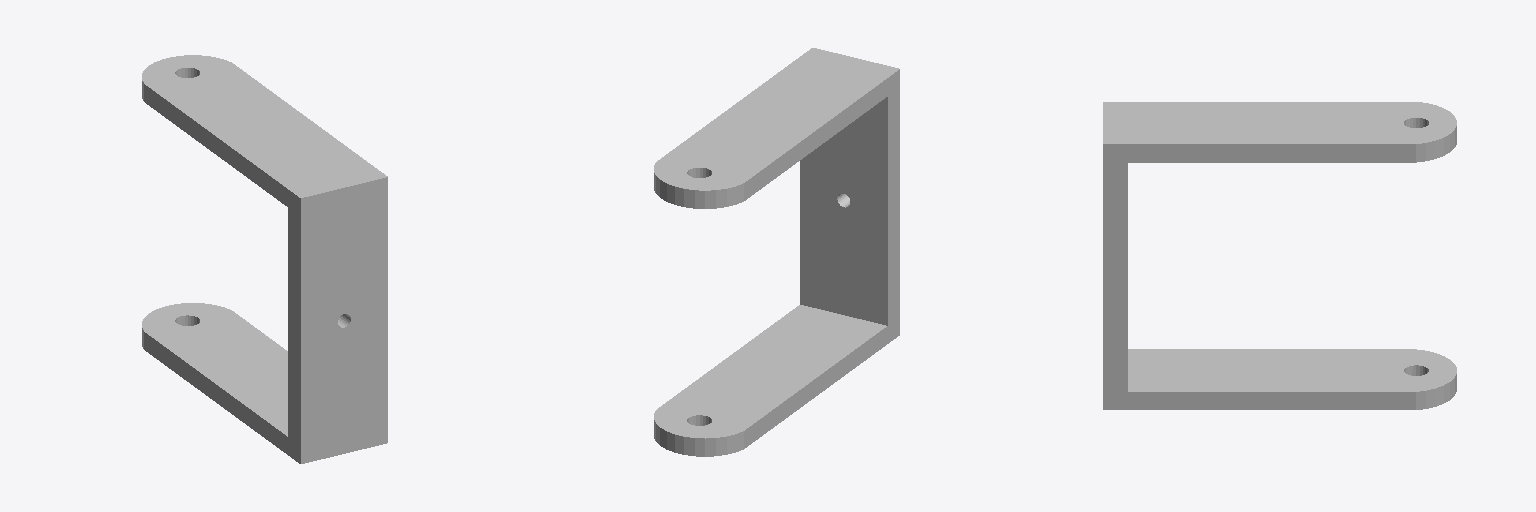
The model's file is pitch_platform.obj.
The picture shows the model from 3 angles: view 1: azimuth 30°, elevation 25°; view 2: azimuth 150°, elevation 25°; view 3: azimuth 270°, elevation 25°; orthographic projection.
Visible parts, largest first — view 1: Pitch_Platform; view 2: Pitch_Platform; view 3: Pitch_Platform.
Part boxes in pixels (left/top/right/bottom): Pitch_Platform: left=142, top=55, right=387, bottom=463; Pitch_Platform: left=654, top=48, right=899, bottom=456; Pitch_Platform: left=1103, top=102, right=1456, bottom=409.
Bounding box in the file's own units: 0.02 × 0.058 × 0.0699.